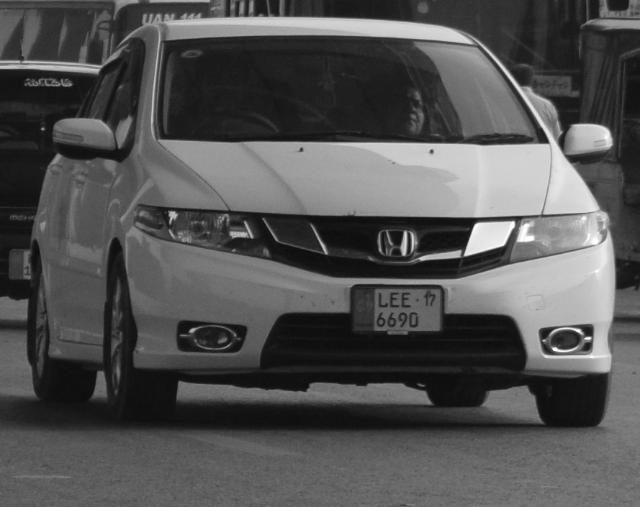Number: (376, 293, 420, 331)
